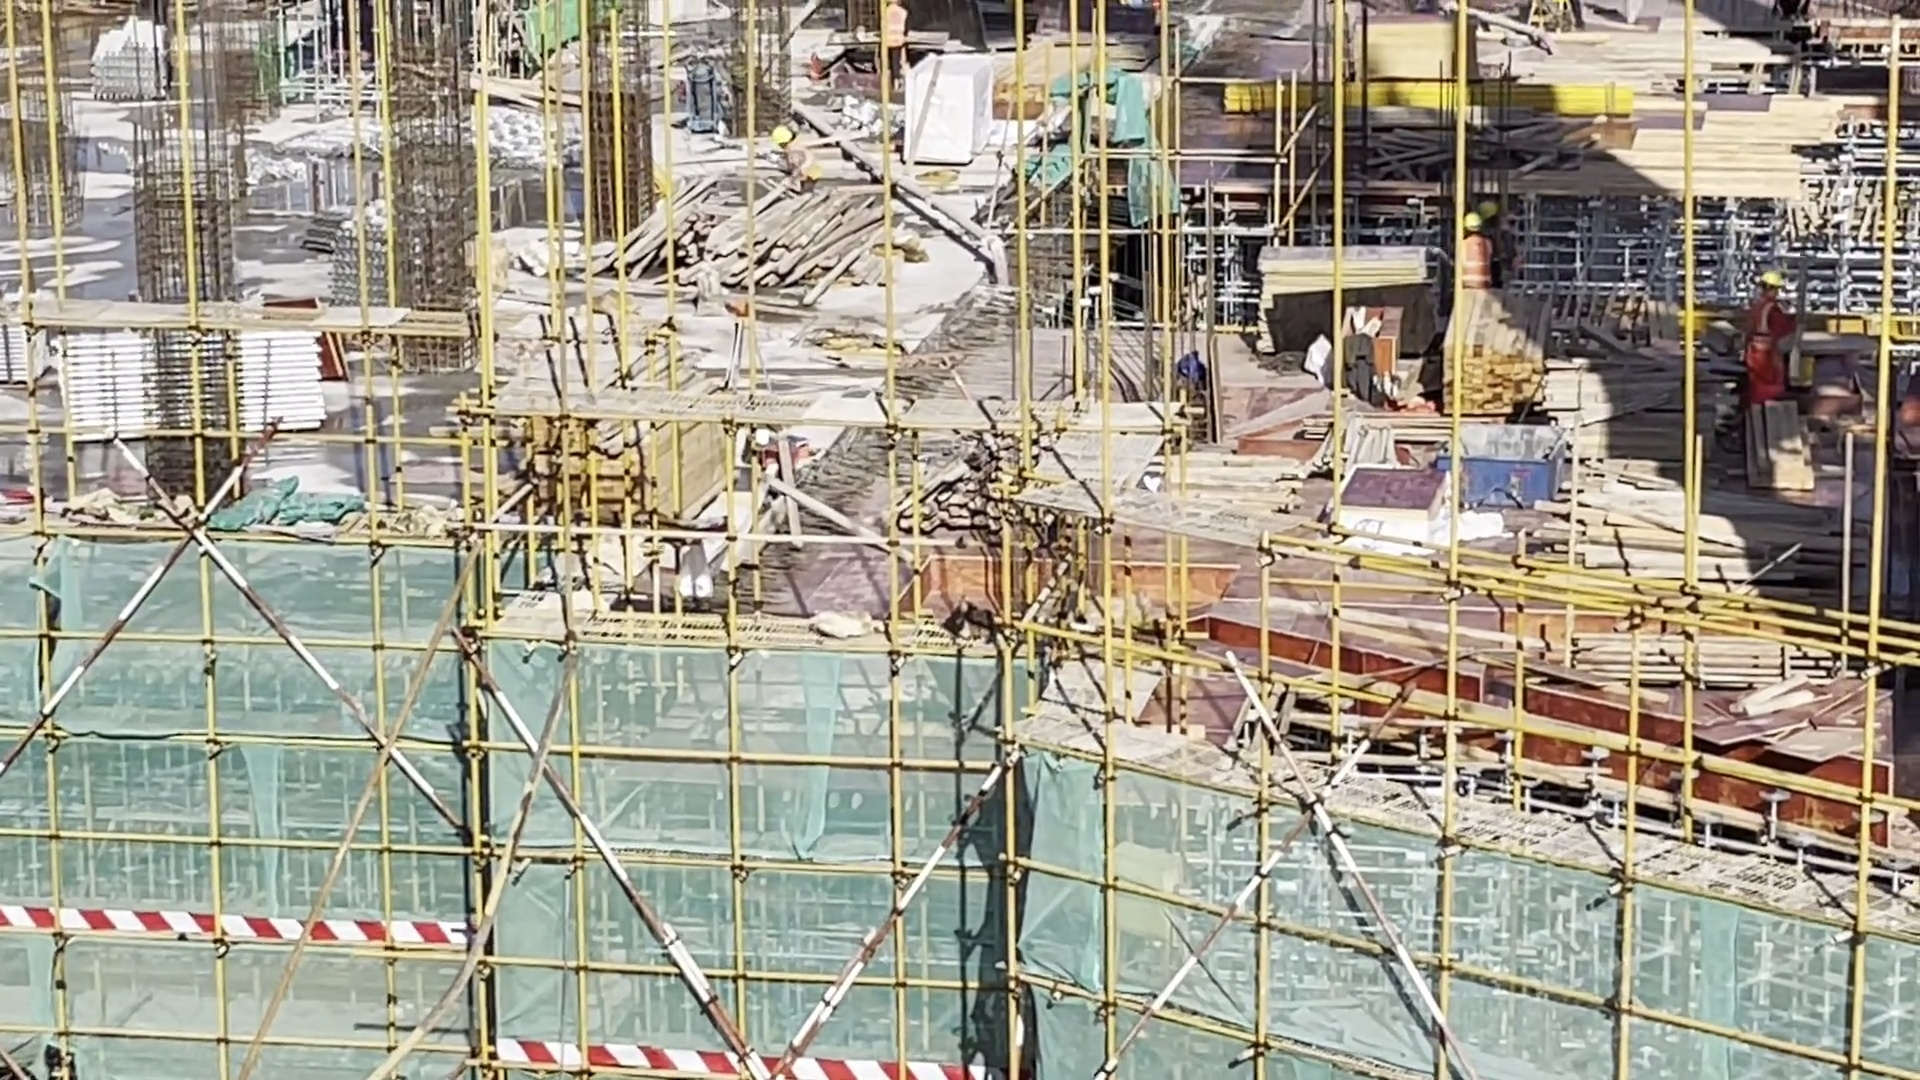board: (1710, 659, 1867, 779)
helmet: (1753, 268, 1786, 296), (1462, 214, 1482, 237), (746, 429, 766, 449), (1479, 199, 1497, 219)
hopper: (1421, 400, 1596, 515)
person: (1741, 264, 1789, 391), (740, 412, 812, 487), (1478, 197, 1519, 291), (764, 128, 819, 198), (1461, 211, 1492, 290)
scaffold: (44, 337, 329, 438)
vest: (1744, 298, 1783, 357), (1468, 235, 1487, 289)
wood: (493, 355, 729, 512), (1558, 598, 1806, 700), (658, 204, 873, 309), (1441, 297, 1542, 397)
